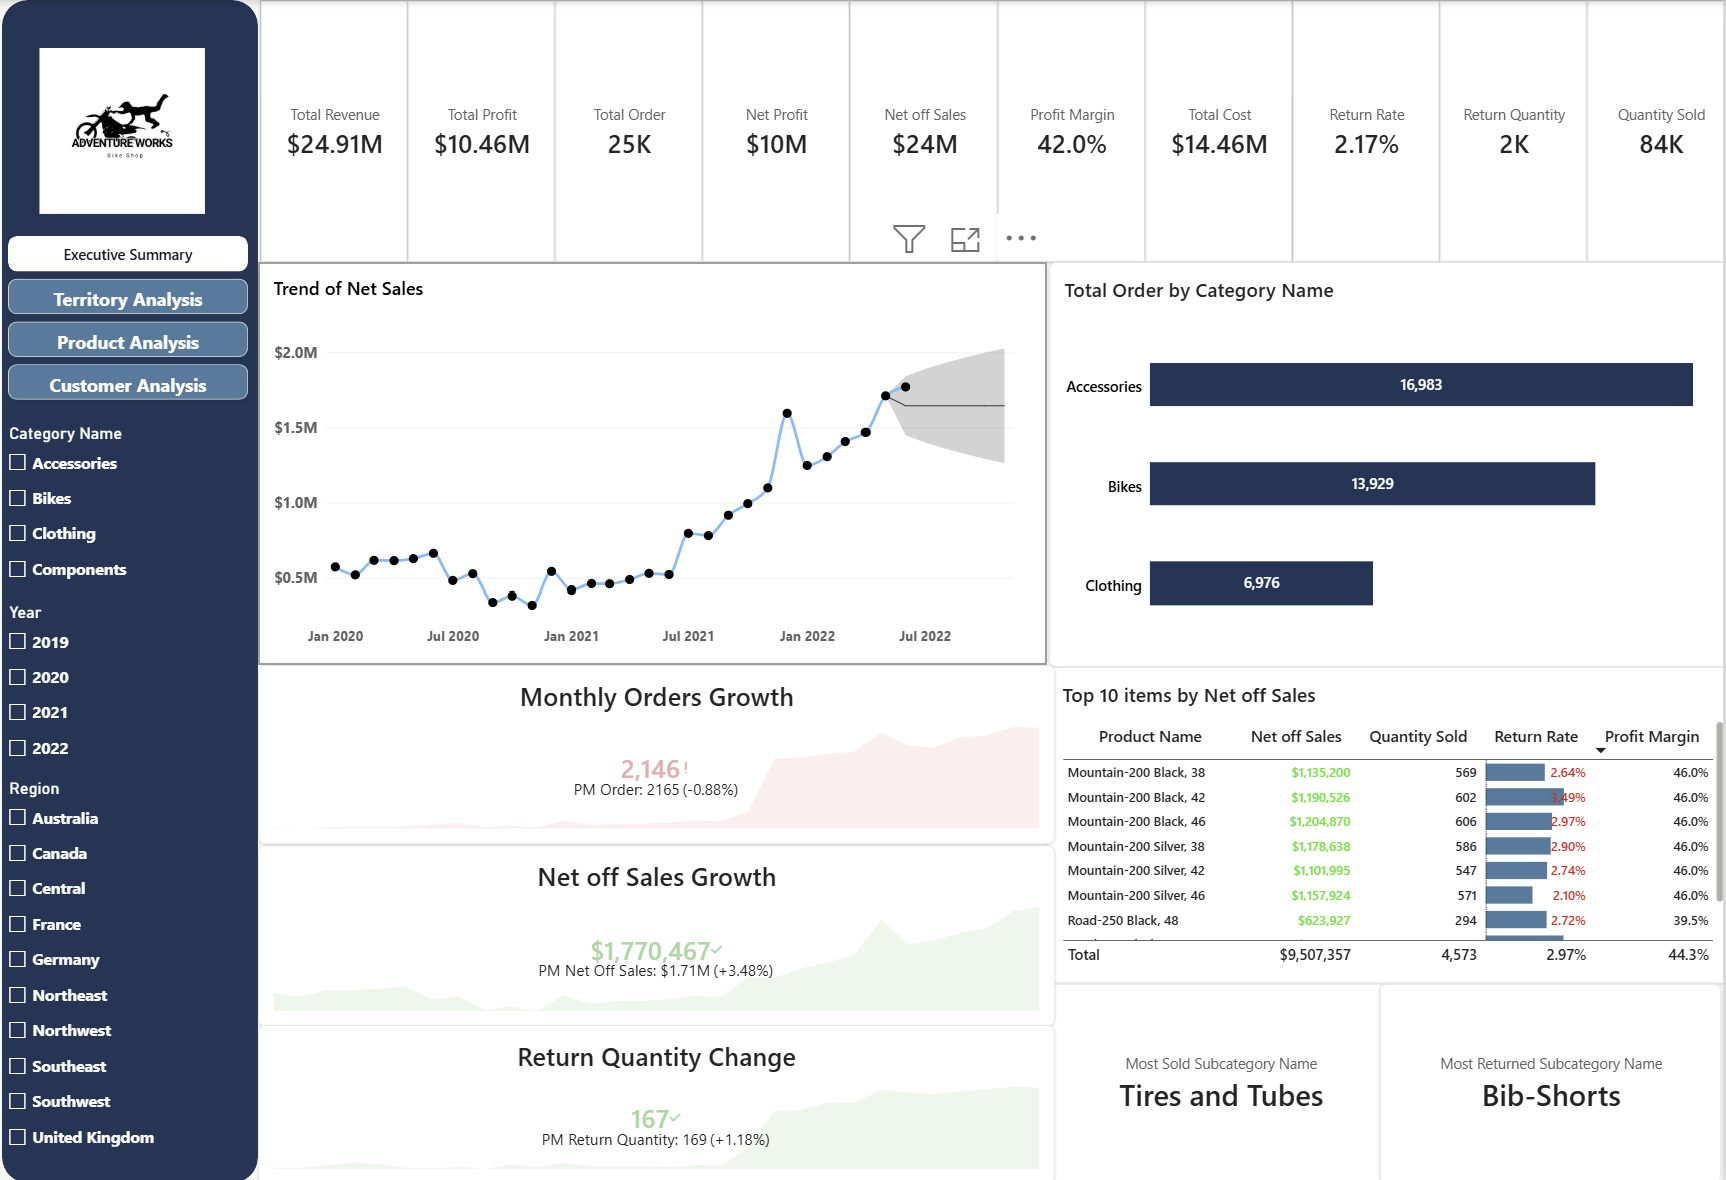

What the dashboard file says about the page in this screenshot:
{"tool":"powerbi","page":{"name":"Executive Summary","canvas":[1900,1300],"ordinal":0},"visuals":[{"type":"shape","box":[8.8,0,281.6,1300],"z":0},{"type":"image","box":[0,52,281.9,182.3],"z":1000},{"type":"cardVisual","fields":{"Data":["_Measures.Total Revenue","_Measures.Total Profit","_Measures.Total Order","_Measures.Net Profit","_Measures.Net off Sales","_Measures.Profit Margin","_Measures.Total Cost","_Measures.Return Rate","_Measures.Return Quantity","_Measures.Quantity Sold"]},"box":[291.6,0,1628.6,289.2],"z":2000},{"type":"lineChart","title":"Trend of Net Sales","fields":{"Category":["DimDate.Start of the Month"],"Y":["_Measures.Net off Sales"]},"box":[291,288.6,865.8,442.5],"z":3000},{"type":"slicer","fields":{"Values":["DimDate.Year"]},"box":[9.6,661.4,251.1,195.8],"z":4000},{"type":"barChart","fields":{"Category":["DimProduct Categories.Category Name"],"Y":["_Measures.Total Order"]},"box":[1159.2,288.2,761.1,444.3],"z":5000},{"type":"tableEx","title":"Top 10 items by Net off Sales","fields":{"Values":["DimProduct.Product Name","_Measures.Net off Sales","_Measures.Quantity Sold","_Measures.Return Rate","_Measures.Profit Margin"]},"box":[1156.7,731.6,761.3,348],"z":6000},{"type":"cardVisual","fields":{"Data":["Min(DimSubcategories.Subcategory Name)"]},"box":[1159.2,1079.9,377.6,221.3],"z":7000},{"type":"cardVisual","fields":{"Data":["Min(DimSubcategories.Subcategory Name)"]},"box":[1521.4,1079,377.6,221.3],"z":8000},{"type":"slicer","fields":{"Values":["DimTerritory.Region"]},"box":[9.6,856.2,250.8,444.3],"z":9000},{"type":"slicer","fields":{"Values":["DimProduct Categories.Category Name"]},"box":[9.6,466.6,250.1,182.8],"z":10000},{"type":"kpi","title":"Net off Sales Growth","fields":{"Goal":["_Measures.PM Net off Sales"],"Indicator":["_Measures.Net off Sales"],"TrendLine":["DimDate.Start of the Month"]},"box":[291,928.4,875.4,199.6],"z":11000},{"type":"kpi","title":"Monthly Orders Growth","fields":{"Goal":["_Measures.PM Orders"],"Indicator":["_Measures.Total Order"],"TrendLine":["DimDate.Start of the Month"]},"box":[291,731.1,875.4,197.2],"z":12000},{"type":"kpi","title":"Return Quantity Change","fields":{"Goal":["_Measures.PM Return Quantity"],"Indicator":["_Measures.Return Quantity"],"TrendLine":["DimDate.Start of the Month"]},"box":[291,1125.6,875,175],"z":13000},{"type":"pageNavigator","box":[16,260,264.6,180.4],"z":14000}]}

Visuals, with their boxes on the page's 1900x1300 design canvas (x1, y1, x2, y2). These are canvas units, not pixel positions in the 1726x1180 screenshot, which may show the page scaled, cropped or inside an application window:
shape: (9, 0, 290, 1300)
image: (0, 52, 282, 234)
cardVisual - _Measures.Total Revenue x _Measures.Total Profit: (292, 0, 1920, 289)
"Trend of Net Sales" lineChart: (291, 289, 1157, 731)
slicer - DimDate.Year: (10, 661, 261, 857)
barChart - DimProduct Categories.Category Name x _Measures.Total Order: (1159, 288, 1920, 732)
"Top 10 items by Net off Sales" tableEx: (1157, 732, 1918, 1080)
cardVisual - Min(DimSubcategories.Subcategory Name): (1159, 1080, 1537, 1301)
cardVisual - Min(DimSubcategories.Subcategory Name): (1521, 1079, 1899, 1300)
slicer - DimTerritory.Region: (10, 856, 260, 1300)
slicer - DimProduct Categories.Category Name: (10, 467, 260, 649)
"Net off Sales Growth" kpi: (291, 928, 1166, 1128)
"Monthly Orders Growth" kpi: (291, 731, 1166, 928)
"Return Quantity Change" kpi: (291, 1126, 1166, 1301)
pageNavigator: (16, 260, 281, 440)
